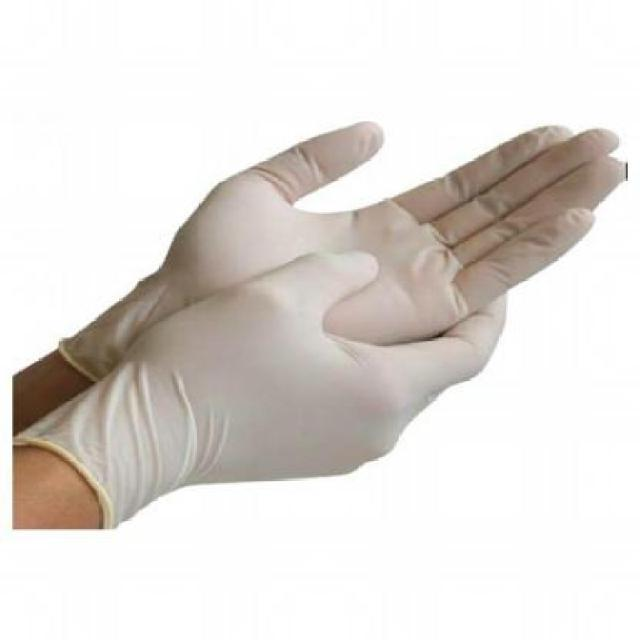gloved_hand: (13, 90, 632, 532)
